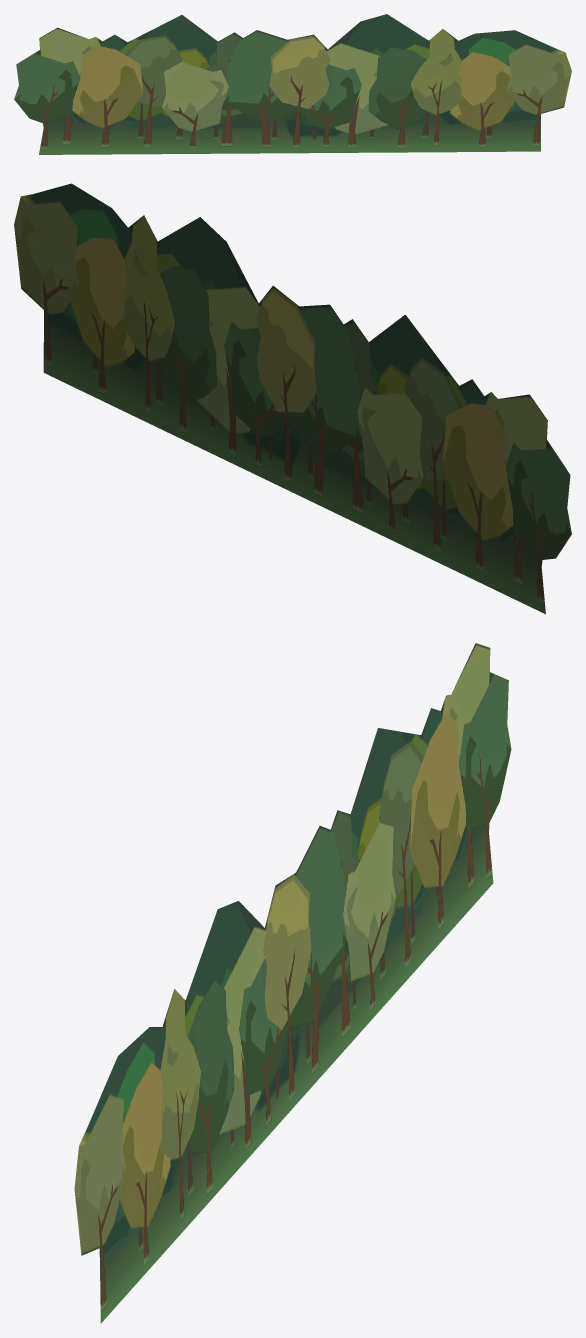
Rendered from Trees_2.fbx.
3 renders of one model, top to bottom at view 1: azimuth 30°, elevation 25°; view 2: azimuth 150°, elevation 25°; view 3: azimuth 270°, elevation 25°, orthographic. The views are drawn at different scales.
Parts seen in each view (by area): view 1: Trees_2; view 2: Trees_2; view 3: Trees_2.
Part boxes in pixels (left/top/right/bottom): Trees_2: left=14, top=14, right=571, bottom=154; Trees_2: left=14, top=183, right=571, bottom=614; Trees_2: left=74, top=643, right=511, bottom=1323.
Bounding box in the file's own units: 46.1 × 15.39 × 19.44.
